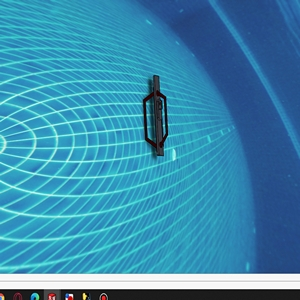submarine: (146, 80, 172, 158)
